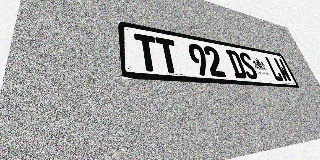2: (202, 45, 226, 77)
9: (187, 42, 211, 76)
D: (225, 49, 248, 79)
L: (264, 56, 285, 82)
S: (237, 51, 259, 80)
T: (134, 33, 161, 72), (155, 37, 181, 74)
W: (273, 58, 293, 82)
